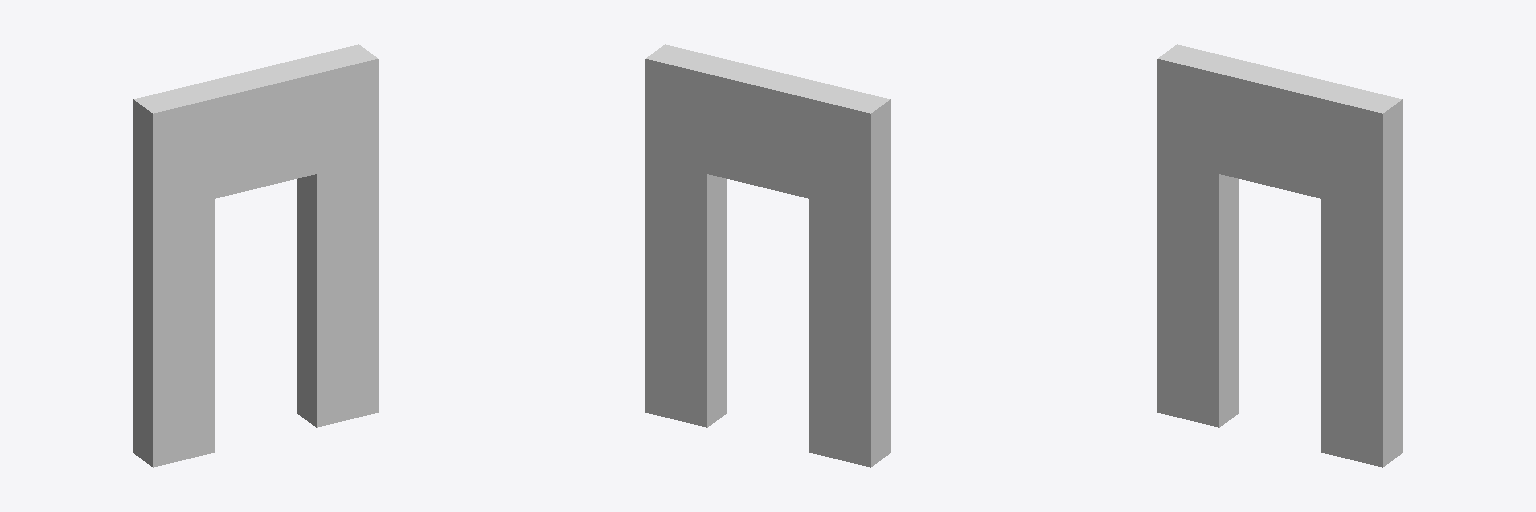
File: SM_WallFrontDoor.obj
The picture shows the model from 3 angles: view 1: azimuth 30°, elevation 25°; view 2: azimuth 150°, elevation 25°; view 3: azimuth 330°, elevation 25°; orthographic projection.
Parts seen in each view (by area): view 1: WallFrontDoor; view 2: WallFrontDoor; view 3: WallFrontDoor.
Boxes of the visible parts, <box> form: WallFrontDoor: <box>133,44,378,467</box>; WallFrontDoor: <box>645,44,890,467</box>; WallFrontDoor: <box>1157,44,1402,467</box>.
Bounding box in the file's own units: 2 × 3 × 0.3.